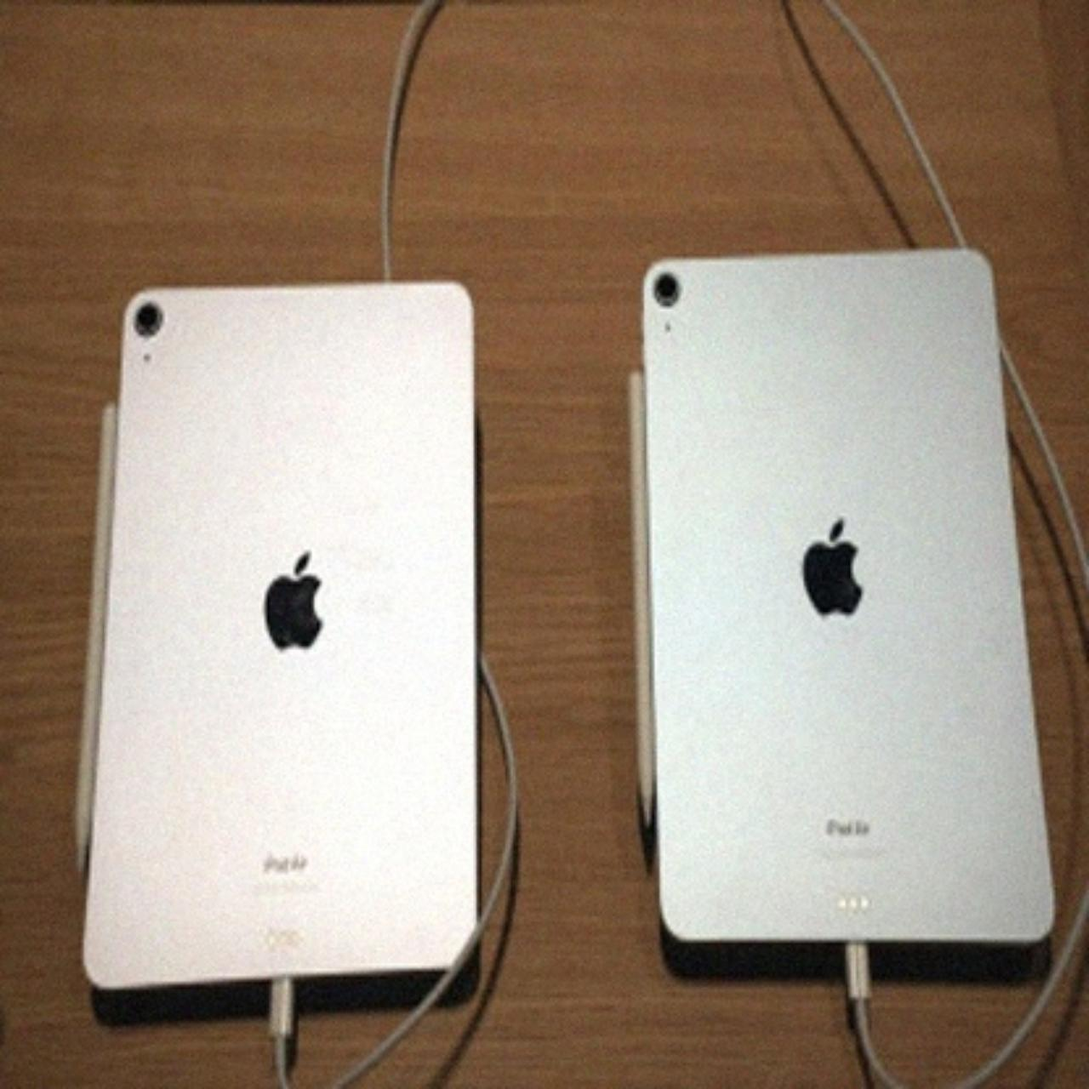Tablet_PC: (620, 231, 1068, 1003), (74, 270, 505, 1023)
